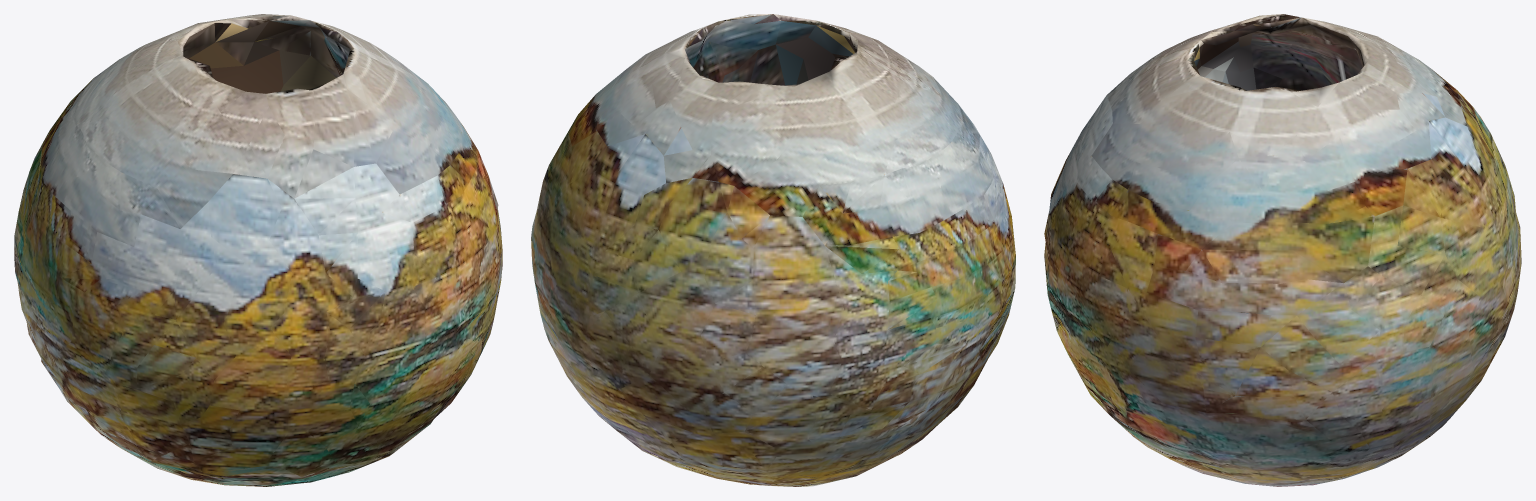
The model's file is AT2 Chanlim Landscape8.glb.
3 views of the same model, side by side, from view 1: azimuth 30°, elevation 25°; view 2: azimuth 150°, elevation 25°; view 3: azimuth 270°, elevation 25° (orthographic).
Size of the model in its own units: 1000 by 953 by 994.
Materials: 1 (1 with a texture image).
